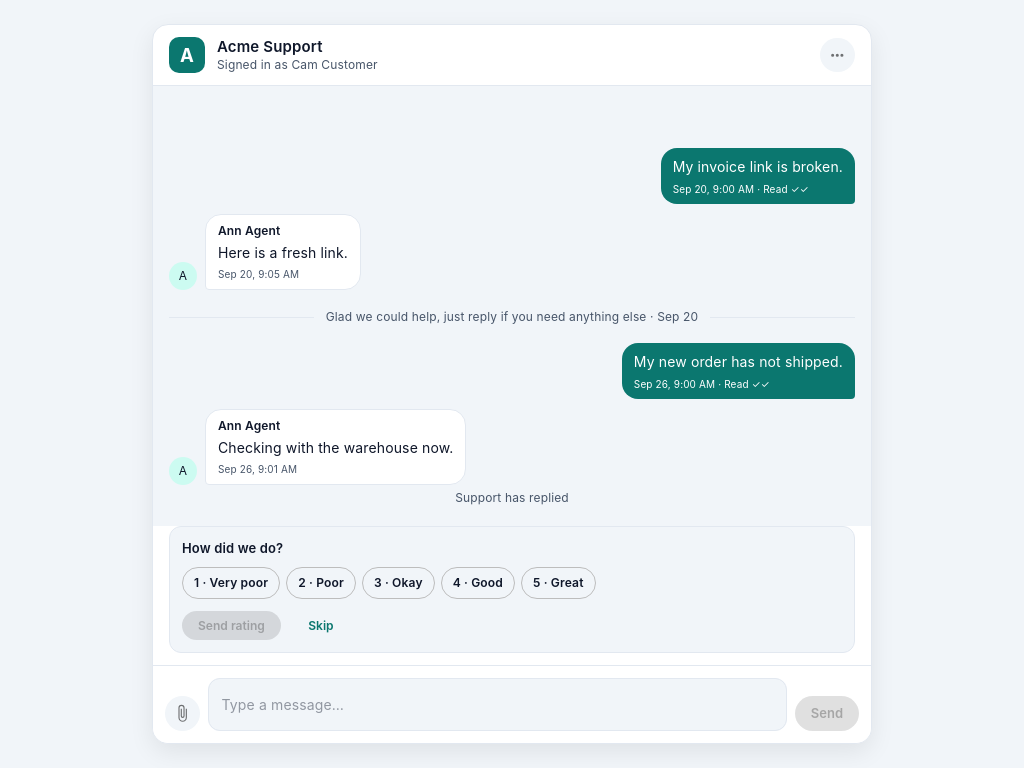
it: RatingPrompt in the customer chat › Skip sends a skip and hides the prompt
This screenshot has width=1024, height=768.
Click the button "Skip".
click(321, 625)  # box [289,611,353,640]
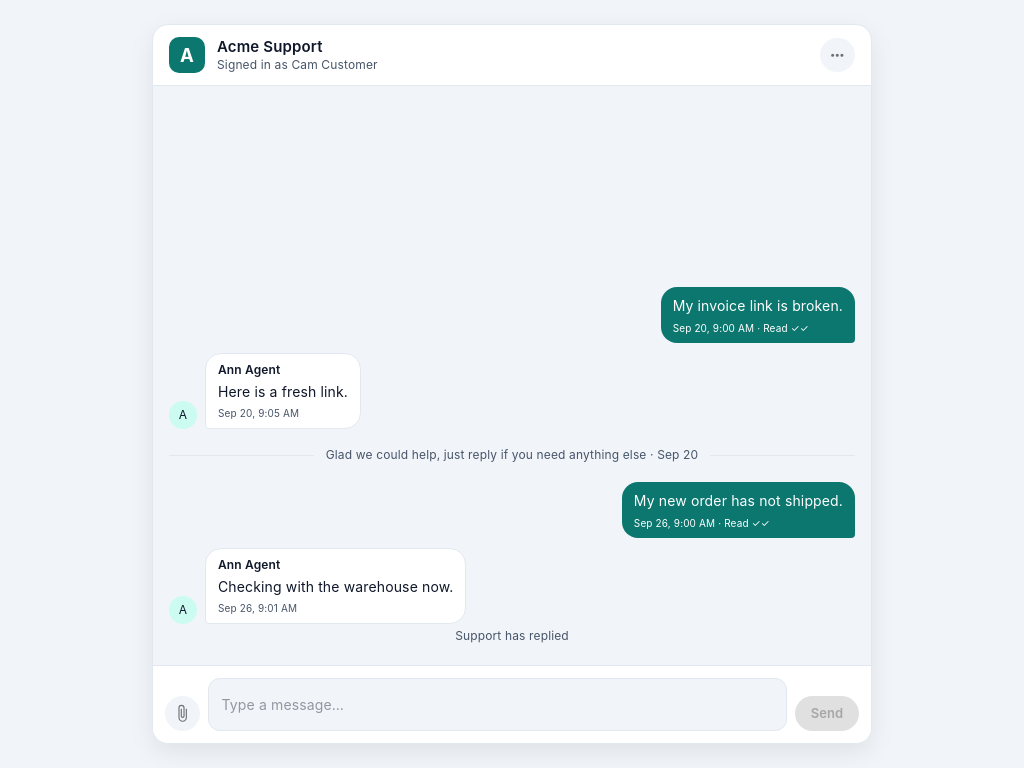
Now the heading "How did we do?" is gone
